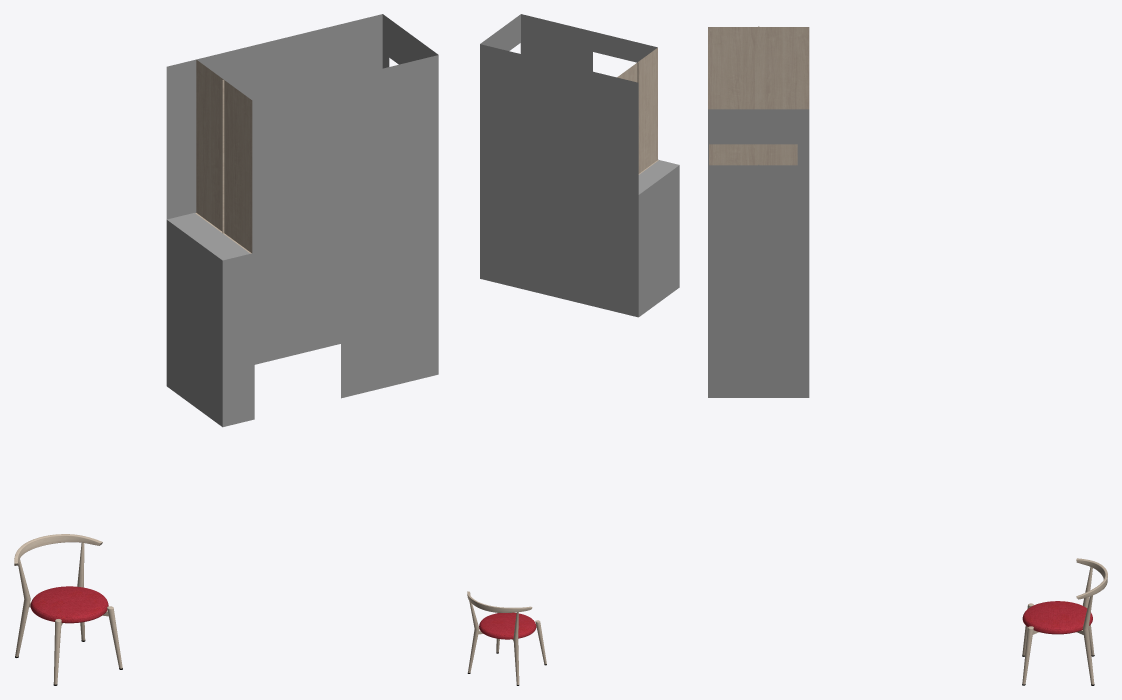
Rendered from fix10.fbx.
3 views of the same model, side by side, from view 1: azimuth 30°, elevation 25°; view 2: azimuth 150°, elevation 25°; view 3: azimuth 270°, elevation 25° (orthographic). The views are drawn at different scales.
Parts seen in each view (by area): view 1: Group_501, Object606461, Line013; view 2: Group_501, Object606461, Line013; view 3: Group_501, Object606461, Line013.
Part boxes in pixels (box(x1,y1,x2,y2)): Group_501: box(166, 14, 438, 427); Object606461: box(195, 60, 252, 253); Line013: box(14, 534, 122, 685); Group_501: box(480, 14, 679, 317); Object606461: box(617, 47, 658, 174); Line013: box(467, 591, 546, 685); Group_501: box(708, 109, 809, 397); Object606461: box(708, 26, 809, 165); Line013: box(1022, 558, 1107, 685).
Bounding box in the file's own units: 1657 × 5090 × 2887.
4 materials, 2 textured.
